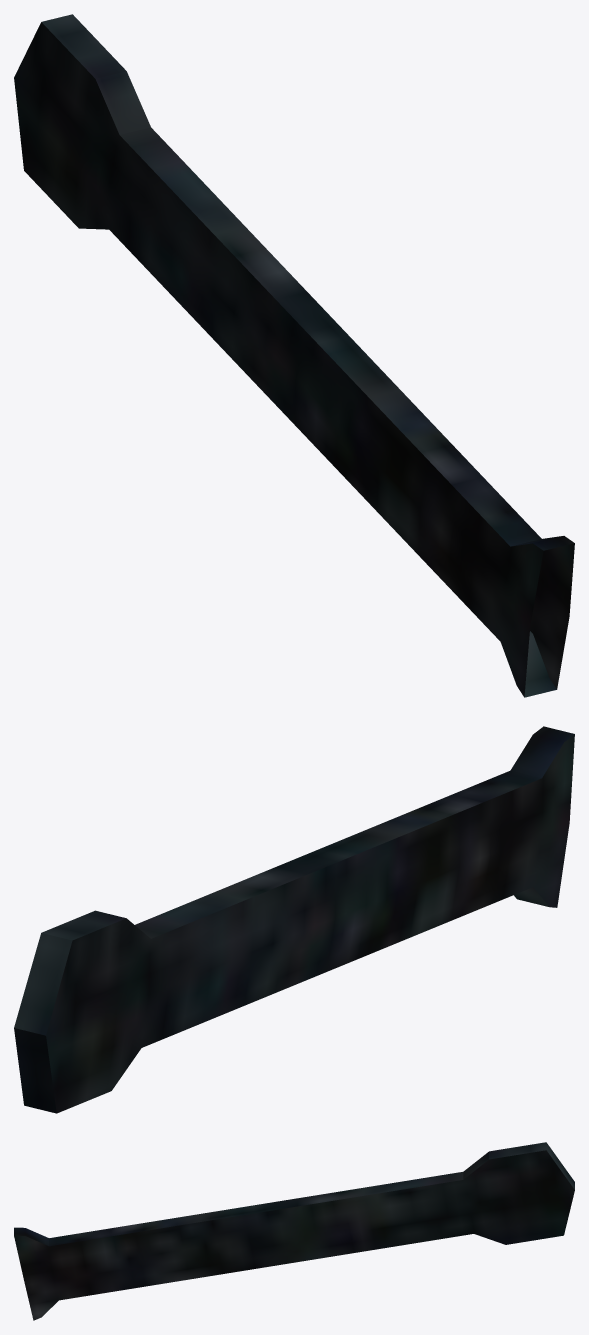
Rendered from BarraIzqCorta.obj.
The picture shows the model from 3 angles, top to bottom: view 1: azimuth 30°, elevation 25°; view 2: azimuth 150°, elevation 25°; view 3: azimuth 270°, elevation 25°; orthographic projection. The views are drawn at different scales.
Parts seen in each view (by area): view 1: BarraIzqCorta; view 2: BarraIzqCorta; view 3: BarraIzqCorta.
Part boxes in pixels (x1,y1,x2,y2): BarraIzqCorta: (14, 14, 574, 697); BarraIzqCorta: (14, 726, 574, 1113); BarraIzqCorta: (14, 1142, 574, 1320).
Size of the model in its own units: 0.0207 by 0.162 by 0.4836.
1 material, 1 textured.
